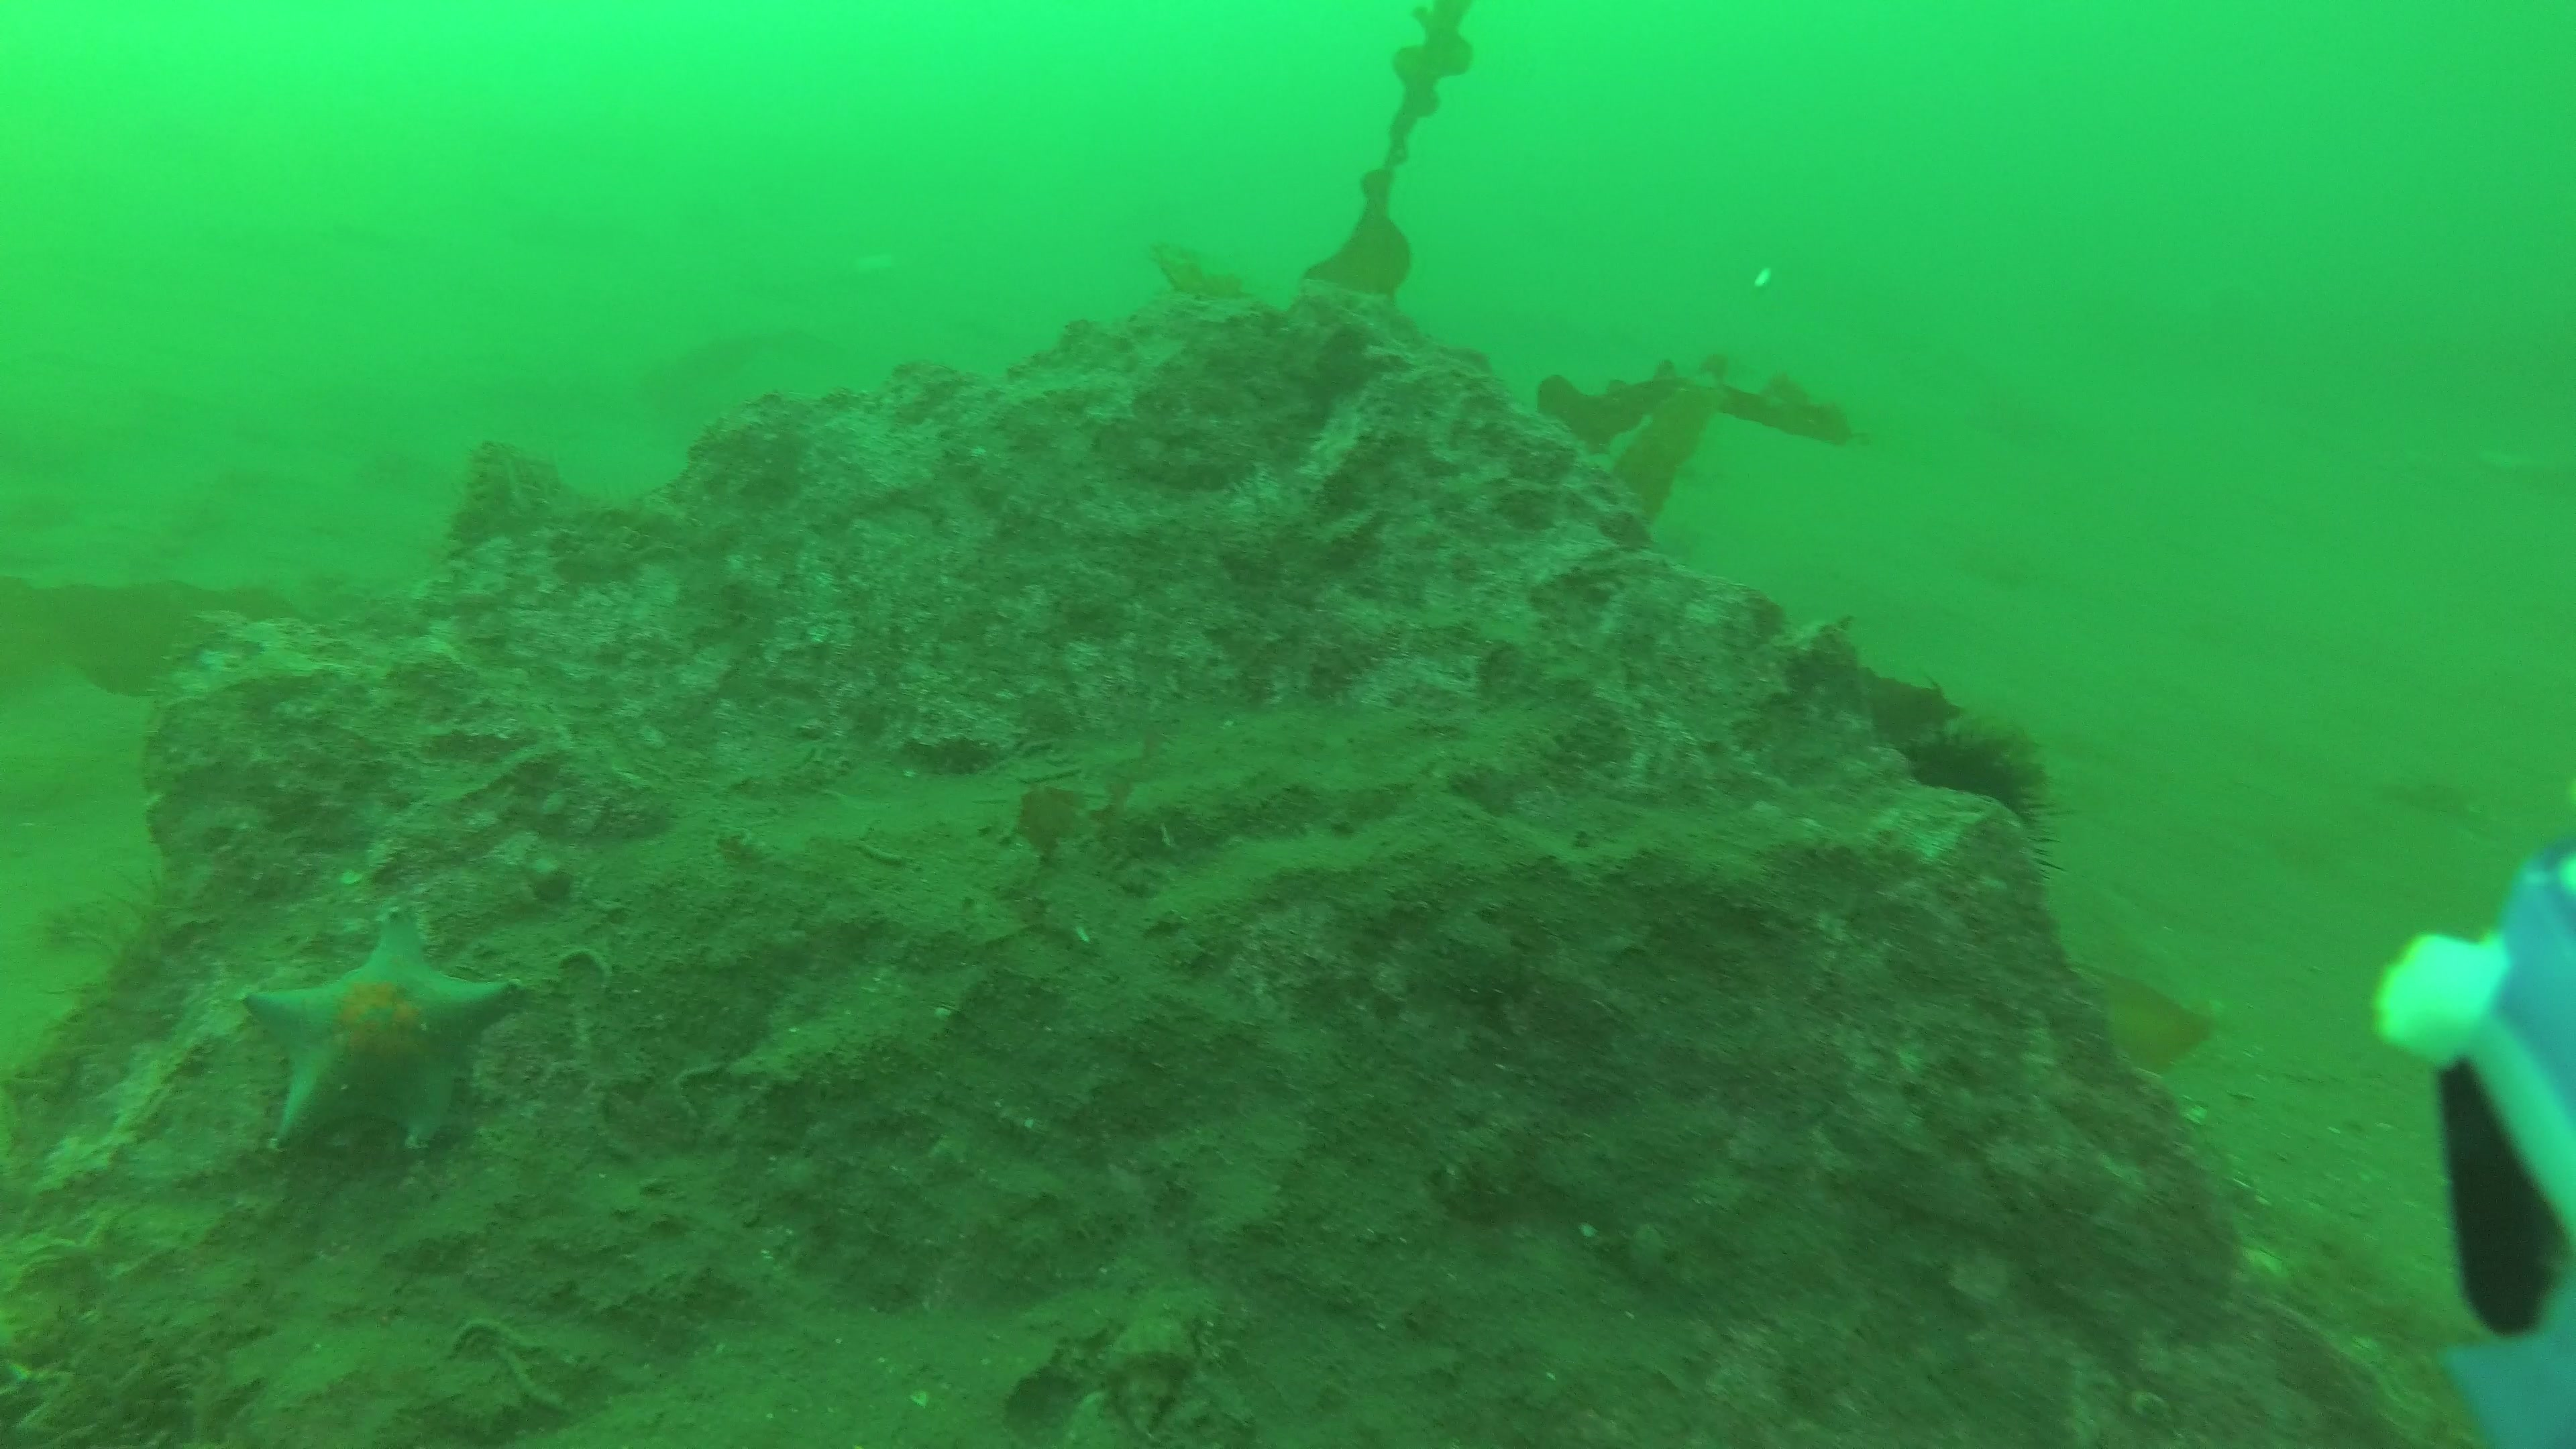echinus: (1893, 718, 2075, 885)
starfish: (241, 904, 527, 1161)
